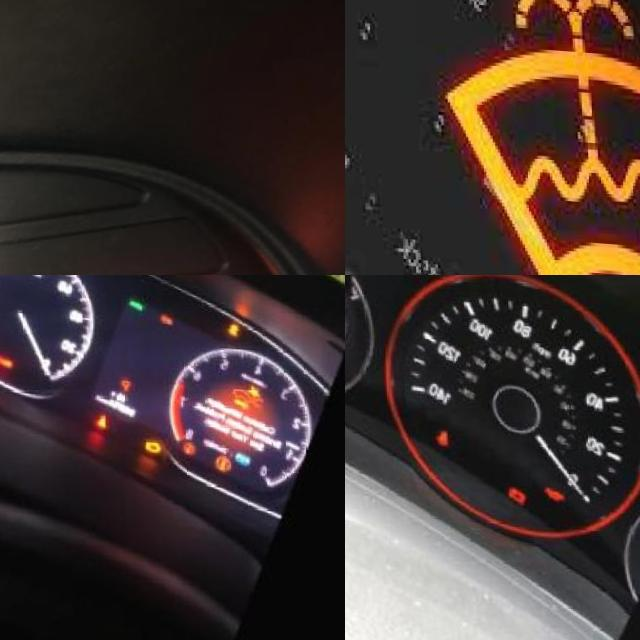Seat Belt: (427, 428, 450, 452)
Washer Fluid: (440, 0, 640, 275)
